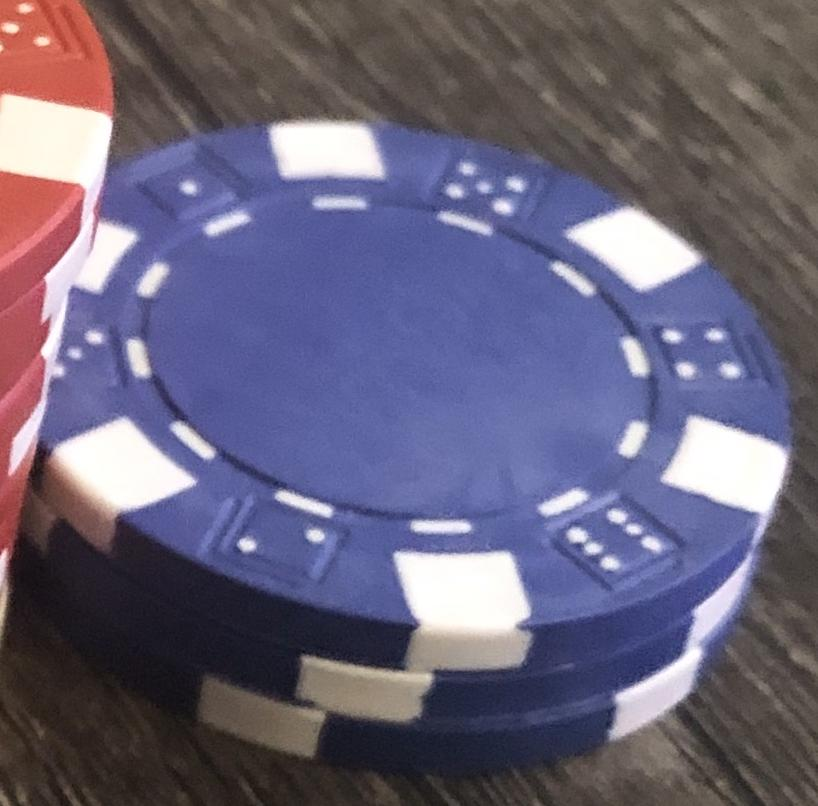Chip: (1, 1, 818, 806)
